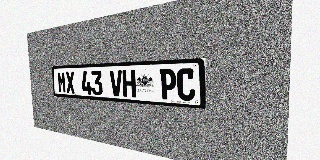3: (91, 71, 103, 95)
4: (81, 71, 92, 95)
C: (177, 68, 195, 101)
H: (122, 70, 136, 97)
M: (57, 71, 66, 93)
P: (159, 69, 177, 100)
V: (110, 70, 123, 97)
X: (65, 71, 75, 94)
